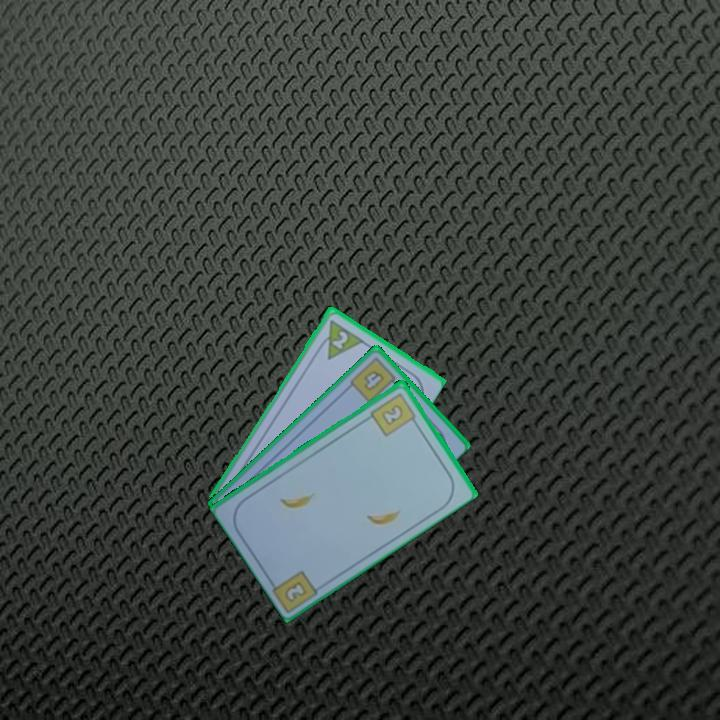2b: (367, 389, 420, 439), (281, 577, 310, 605)
2p: (328, 327, 351, 352)
4b: (346, 353, 402, 405)
